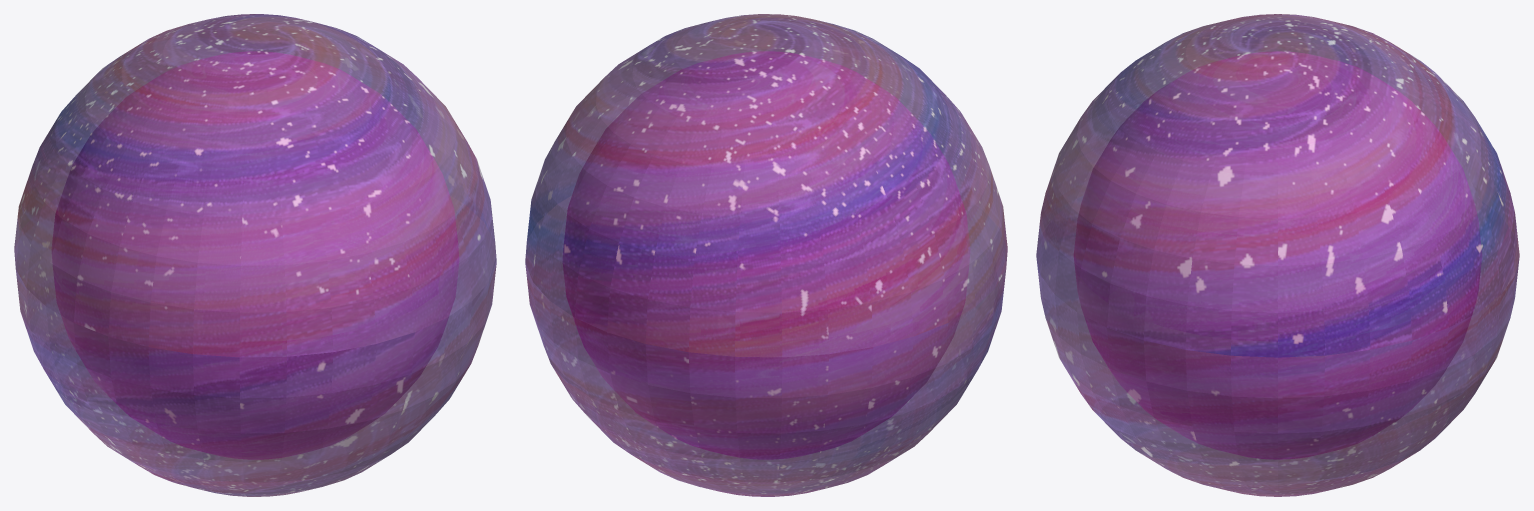
Rendered from magicball_2.FBX.
The picture shows the model from 3 angles, left to right: view 1: azimuth 30°, elevation 25°; view 2: azimuth 150°, elevation 25°; view 3: azimuth 270°, elevation 25°; orthographic projection.
Parts seen in each view (by area): view 1: Object001, Sphere002; view 2: Object001, Sphere002; view 3: Object001, Sphere002.
Part boxes in pixels (box(x1,y1,x2,y2)): Object001: box(14, 14, 496, 496); Sphere002: box(51, 51, 459, 459); Object001: box(525, 14, 1007, 496); Sphere002: box(562, 51, 970, 459); Object001: box(1036, 14, 1519, 496); Sphere002: box(1074, 51, 1481, 459).
Size of the model in its own units: 130 by 130 by 130.
2 materials, 2 textured.
